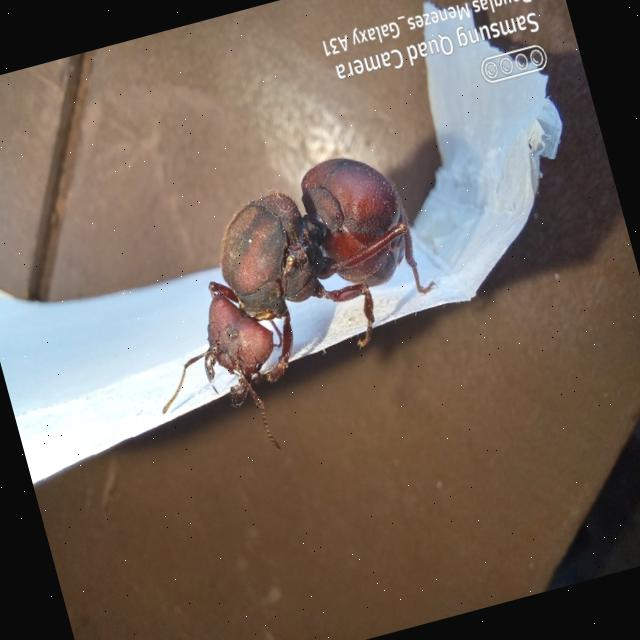Alive-Female-Dealate: (110, 140, 470, 478)
